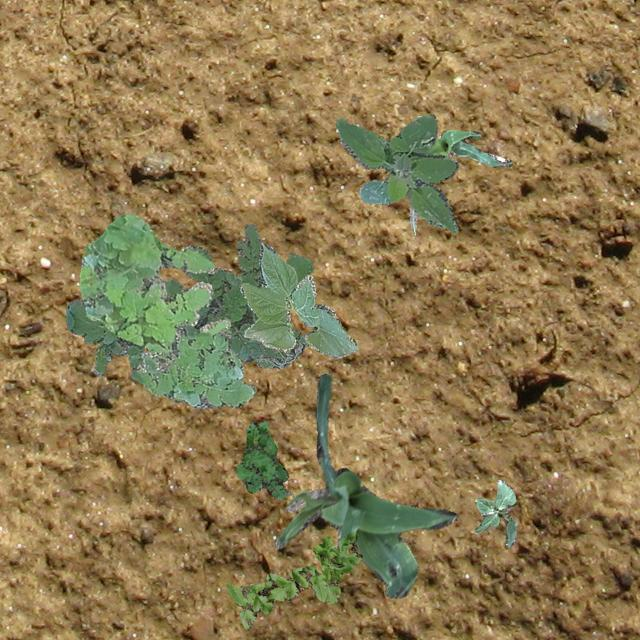crop: (274, 372, 456, 598), (238, 242, 358, 358), (408, 130, 511, 230), (474, 478, 516, 546)
weed: (65, 222, 312, 374), (78, 212, 230, 358), (334, 112, 458, 232), (226, 530, 362, 628), (130, 320, 256, 408), (237, 421, 290, 498), (254, 328, 308, 368)
